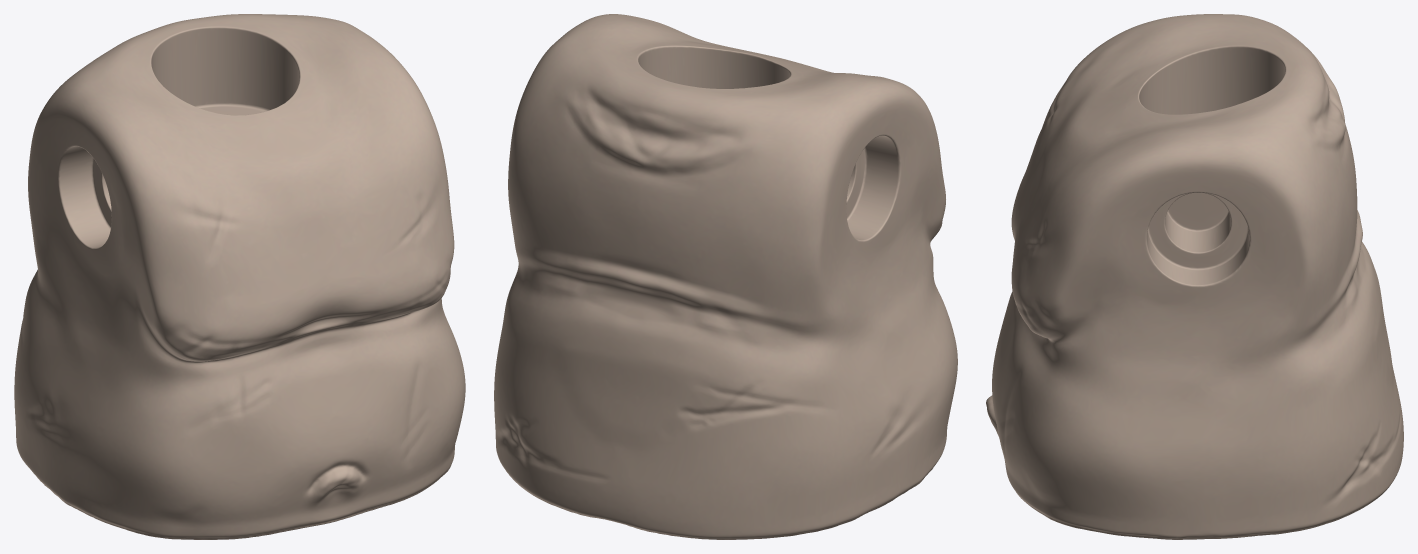
File: Buste_Elephant.glb
3 renders of one model, left to right at view 1: azimuth 30°, elevation 25°; view 2: azimuth 150°, elevation 25°; view 3: azimuth 270°, elevation 25°, orthographic. The views are drawn at different scales.
Parts seen in each view (by area): view 1: Buste_Elephant; view 2: Buste_Elephant; view 3: Buste_Elephant.
Part boxes in pixels (x1=…): Buste_Elephant: x1=14, y1=14, x2=465, y2=539; Buste_Elephant: x1=494, y1=14, x2=957, y2=539; Buste_Elephant: x1=986, y1=14, x2=1403, y2=539.
Size of the model in its own units: 3.66 by 3.72 by 3.67.
